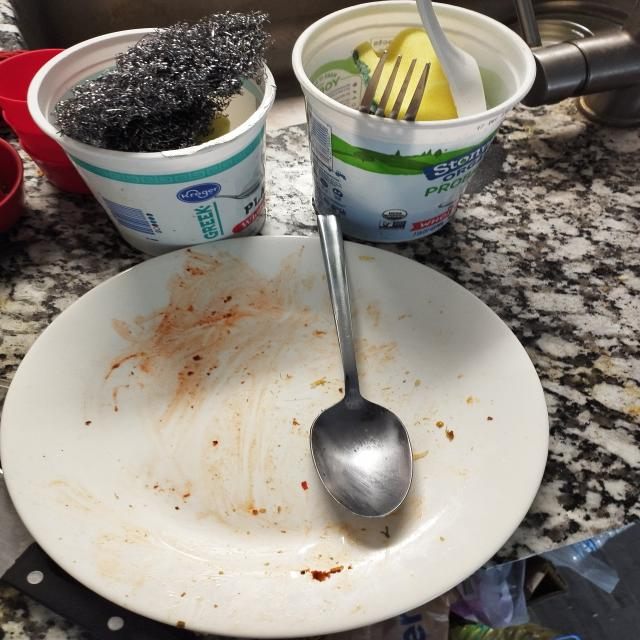Spoon: (280, 203, 445, 521)
